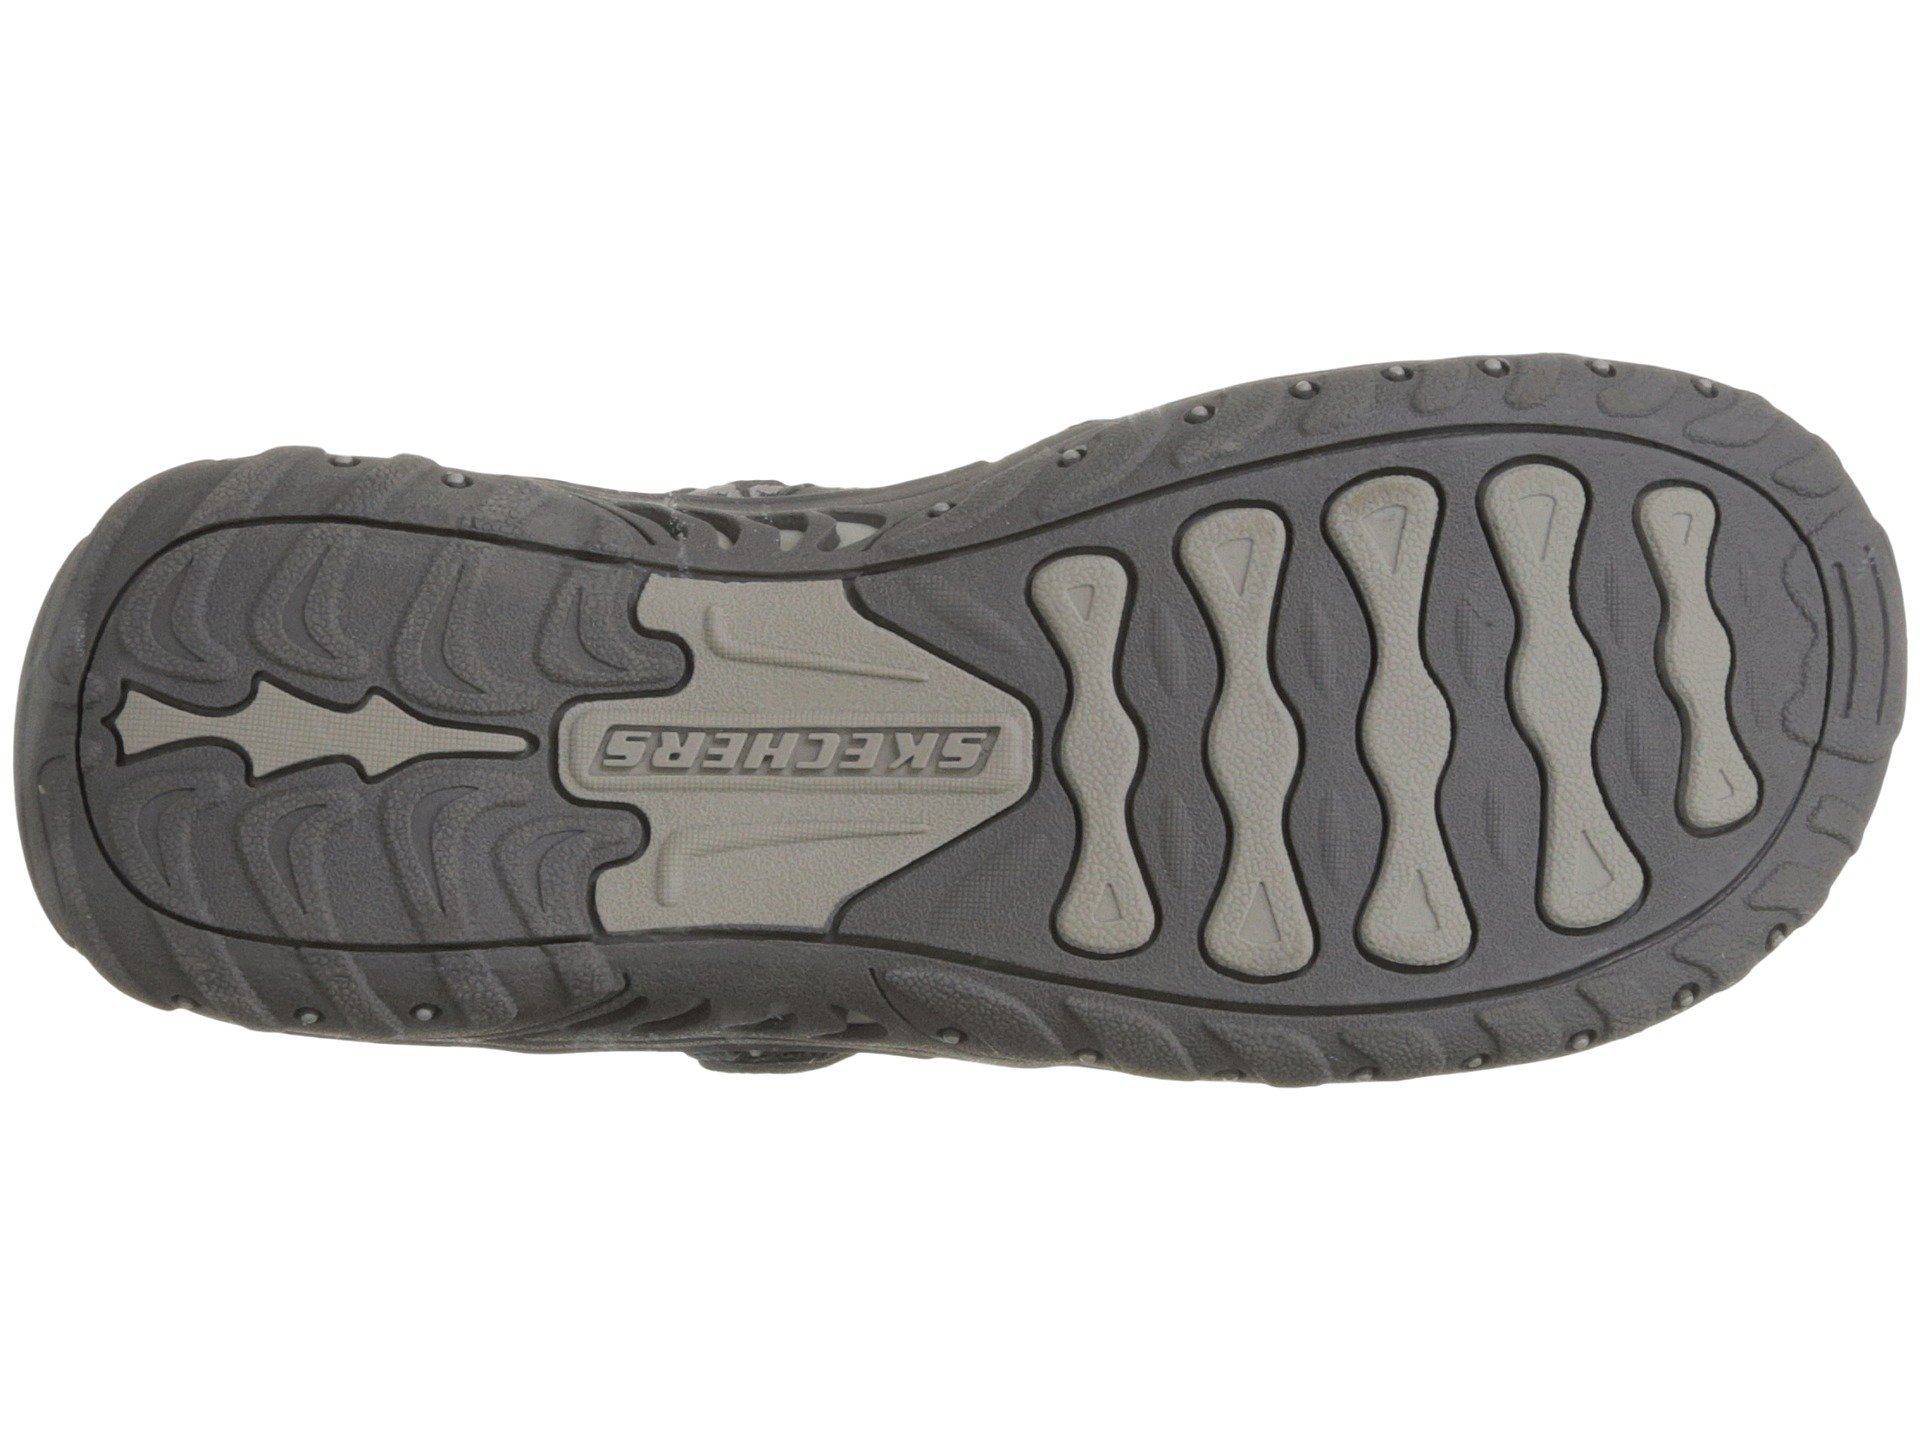bowtie: (1123, 490, 1521, 1013), (1547, 436, 1852, 870)
chevron: (189, 551, 550, 894)
text: (553, 659, 810, 877), (810, 634, 1023, 871)
triangle: (1123, 490, 1521, 1013), (1547, 436, 1852, 870)
